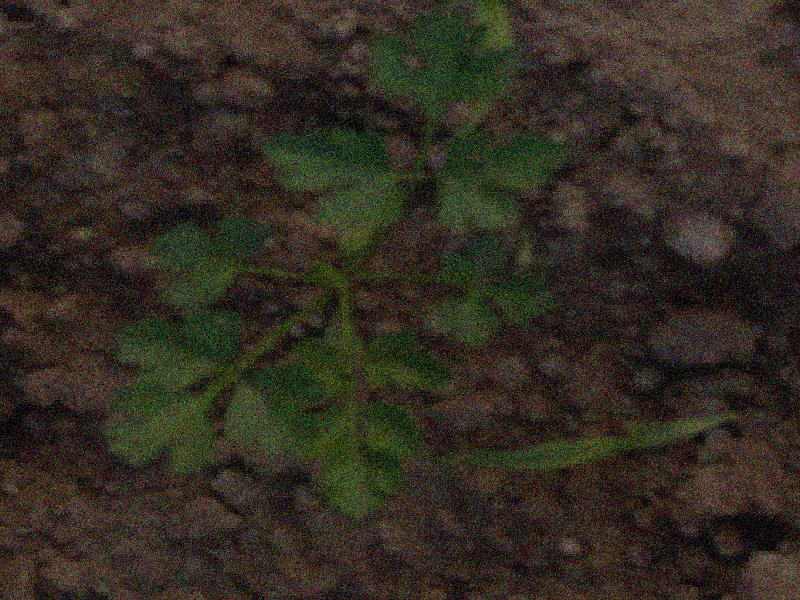radish: (104, 4, 574, 520)
